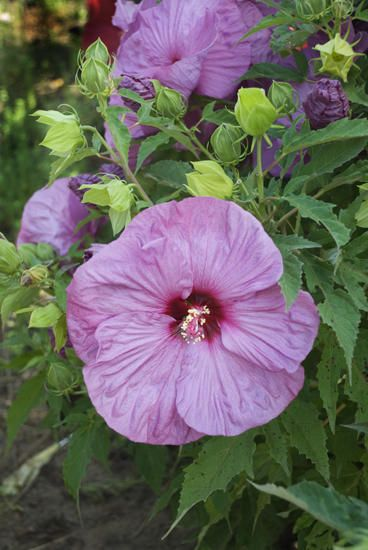Hibiscus: (64, 198, 328, 453), (110, 4, 262, 140), (21, 174, 90, 266), (69, 19, 128, 115), (140, 70, 210, 148), (205, 120, 264, 189), (307, 16, 358, 77), (305, 72, 350, 135), (253, 57, 298, 116), (66, 153, 124, 196)
